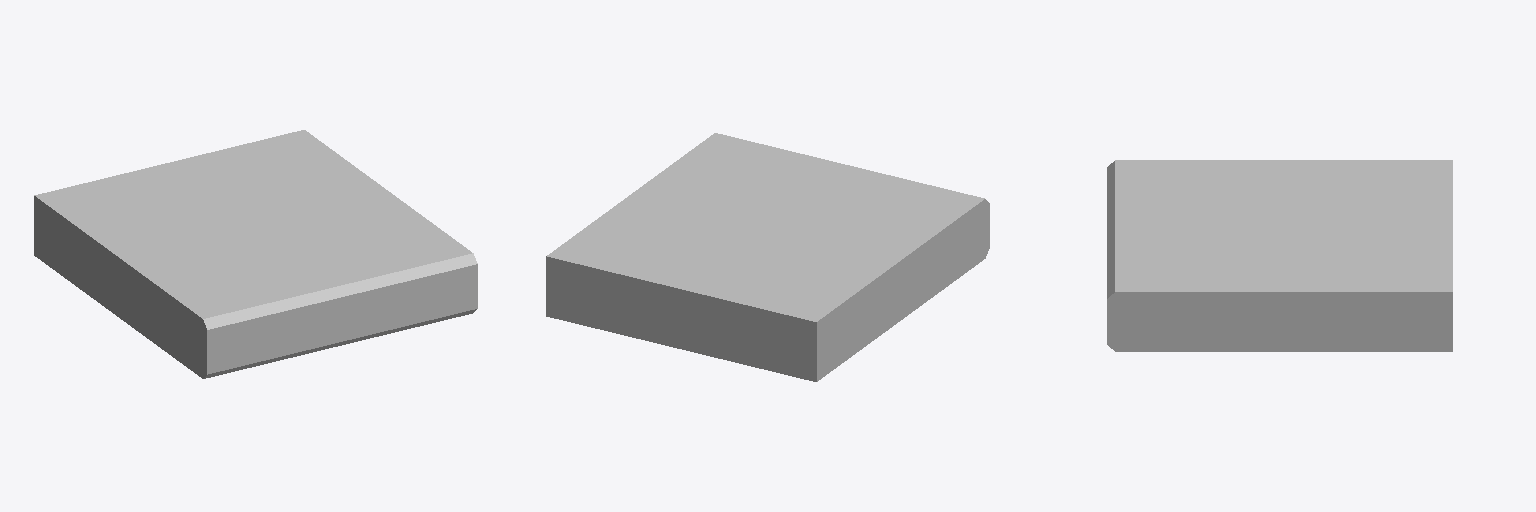
Rendered from roof-flat-awning-a.obj.
3 views of the same model, side by side, from view 1: azimuth 30°, elevation 25°; view 2: azimuth 150°, elevation 25°; view 3: azimuth 270°, elevation 25° (orthographic).
Parts seen in each view (by area): view 1: roof-flat-awning-a; view 2: roof-flat-awning-a; view 3: roof-flat-awning-a.
Part boxes in pixels (x1,y1,x2,y2): roof-flat-awning-a: (34,130,477,378); roof-flat-awning-a: (546,133,989,381); roof-flat-awning-a: (1107,160,1452,351).
Bounding box in the file's own units: 1 × 0.2125 × 1.11.